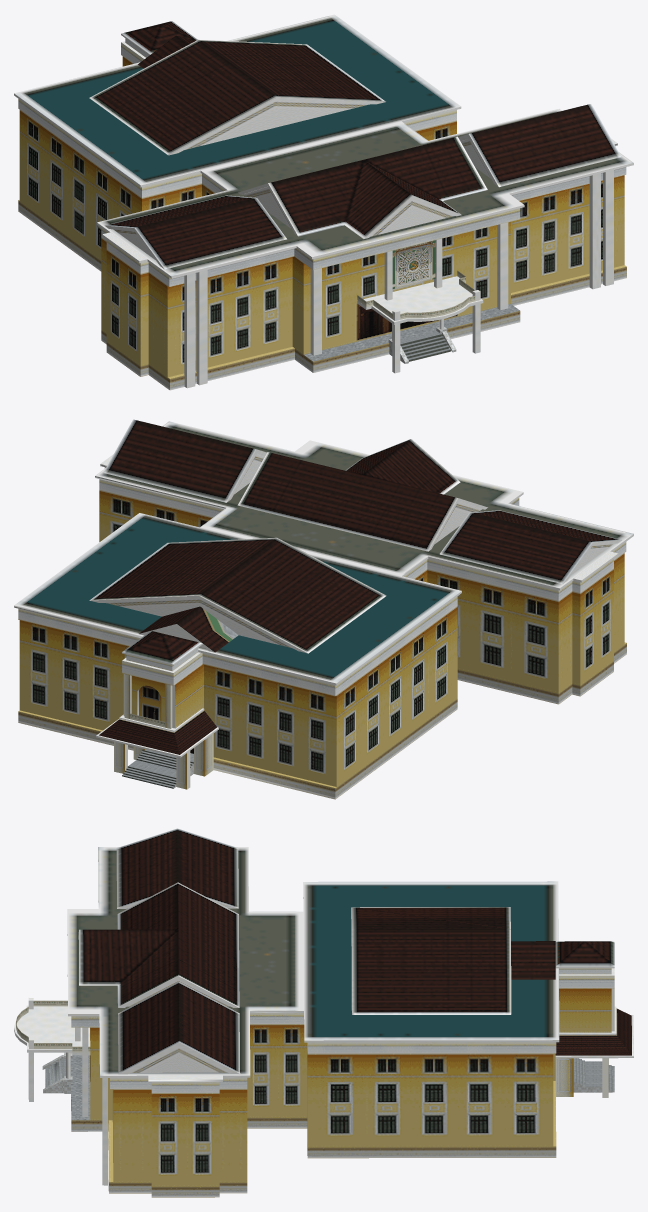
3 views of the same model, one above another, from view 1: azimuth 30°, elevation 25°; view 2: azimuth 150°, elevation 25°; view 3: azimuth 270°, elevation 25° (orthographic).
Parts seen in each view (by area): view 1: 5af267fa8394861eb8e5012e.001; view 2: 5af267fa8394861eb8e5012e.001; view 3: 5af267fa8394861eb8e5012e.001.
Boxes of the visible parts, left/top/right/bottom form: 5af267fa8394861eb8e5012e.001: left=14, top=14, right=633, bottom=390; 5af267fa8394861eb8e5012e.001: left=14, top=419, right=633, bottom=799; 5af267fa8394861eb8e5012e.001: left=14, top=828, right=633, bottom=1197.
Bounding box in the file's own units: 87.87 × 26.13 × 97.15.
Materials: 1 (1 with a texture image).
